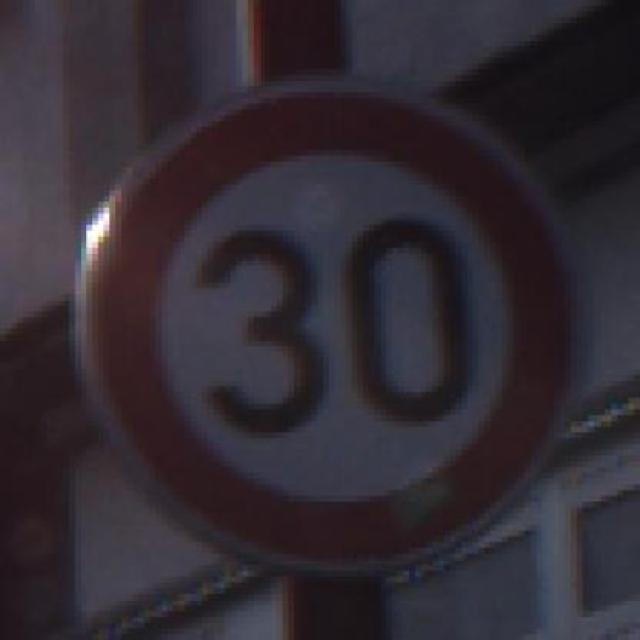Speed Limit 30 KMPh: (40, 81, 611, 588)
